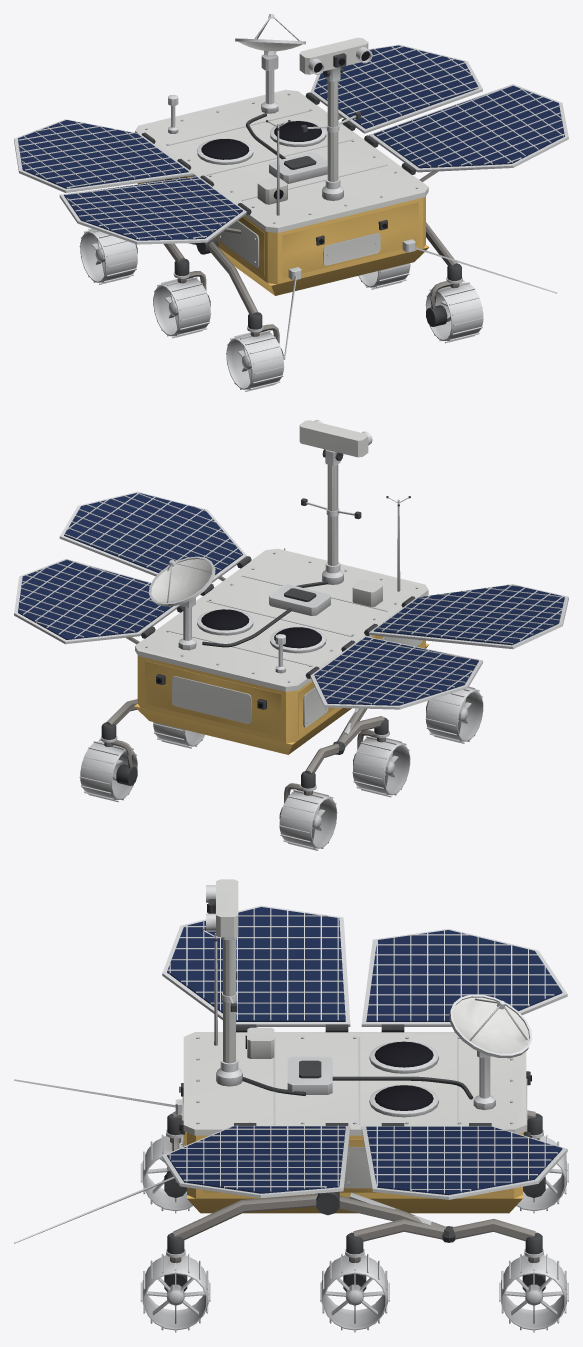
File: zhurong.glb
3 views of the same model, one above another, from view 1: azimuth 30°, elevation 25°; view 2: azimuth 150°, elevation 25°; view 3: azimuth 270°, elevation 25° (orthographic). The views are drawn at different scales.
Visible parts, largest first — view 1: zhurong_mesh, mast_mesh; view 2: zhurong_mesh, mast_mesh; view 3: zhurong_mesh, mast_mesh.
Part boxes in pixels (x1=…): zhurong_mesh: x1=14, y1=14, x2=568, y2=391; mast_mesh: x1=299, y1=37, x2=372, y2=200; zhurong_mesh: x1=14, y1=491, x2=568, y2=850; mast_mesh: x1=299, y1=420, x2=372, y2=584; zhurong_mesh: x1=14, y1=905, x2=568, y2=1332; mast_mesh: x1=206, y1=879, x2=242, y2=1086.
Bounding box in the file's own units: 3.06 × 1.8 × 2.48.
